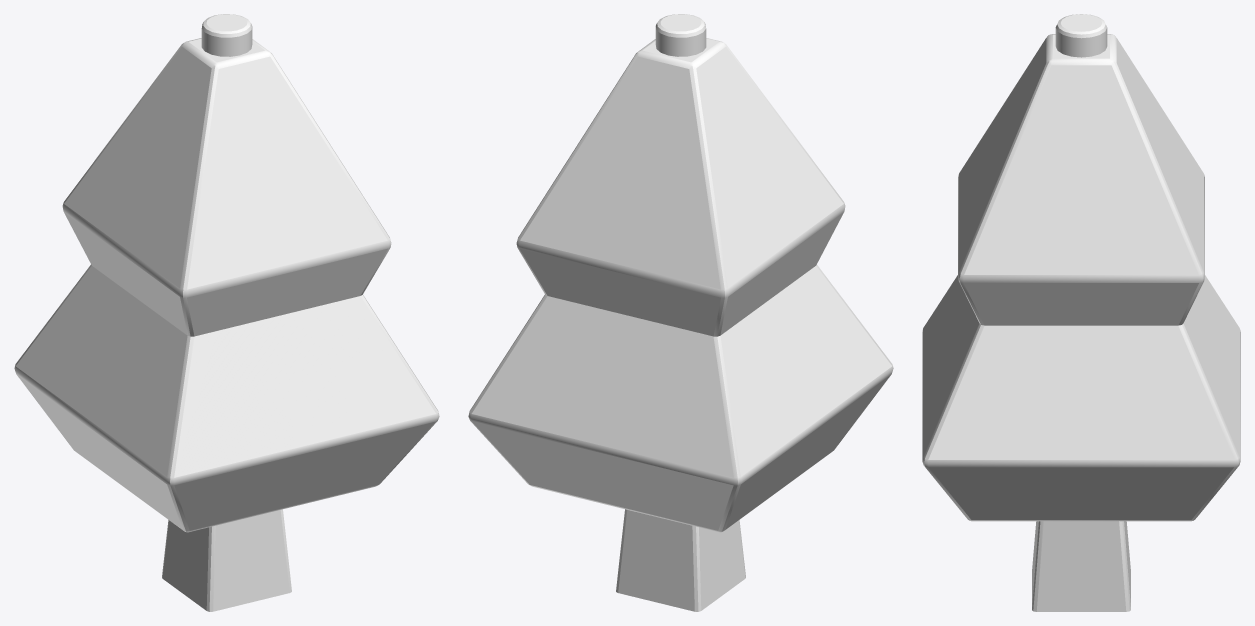
Rendered from tree_001.fbx.
3 views of the same model, side by side, from view 1: azimuth 30°, elevation 25°; view 2: azimuth 150°, elevation 25°; view 3: azimuth 270°, elevation 25° (orthographic).
Parts seen in each view (by area): view 1: tree_001; view 2: tree_001; view 3: tree_001.
Boxes of the visible parts, x1,y1,x2,y2 form: tree_001: (14, 14, 439, 611); tree_001: (468, 14, 893, 611); tree_001: (922, 14, 1240, 611).
Size of the model in its own units: 2 by 3.95 by 2.
